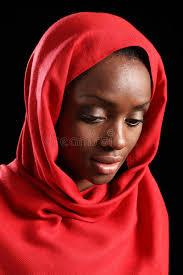No Mask: (44, 27, 167, 201)
